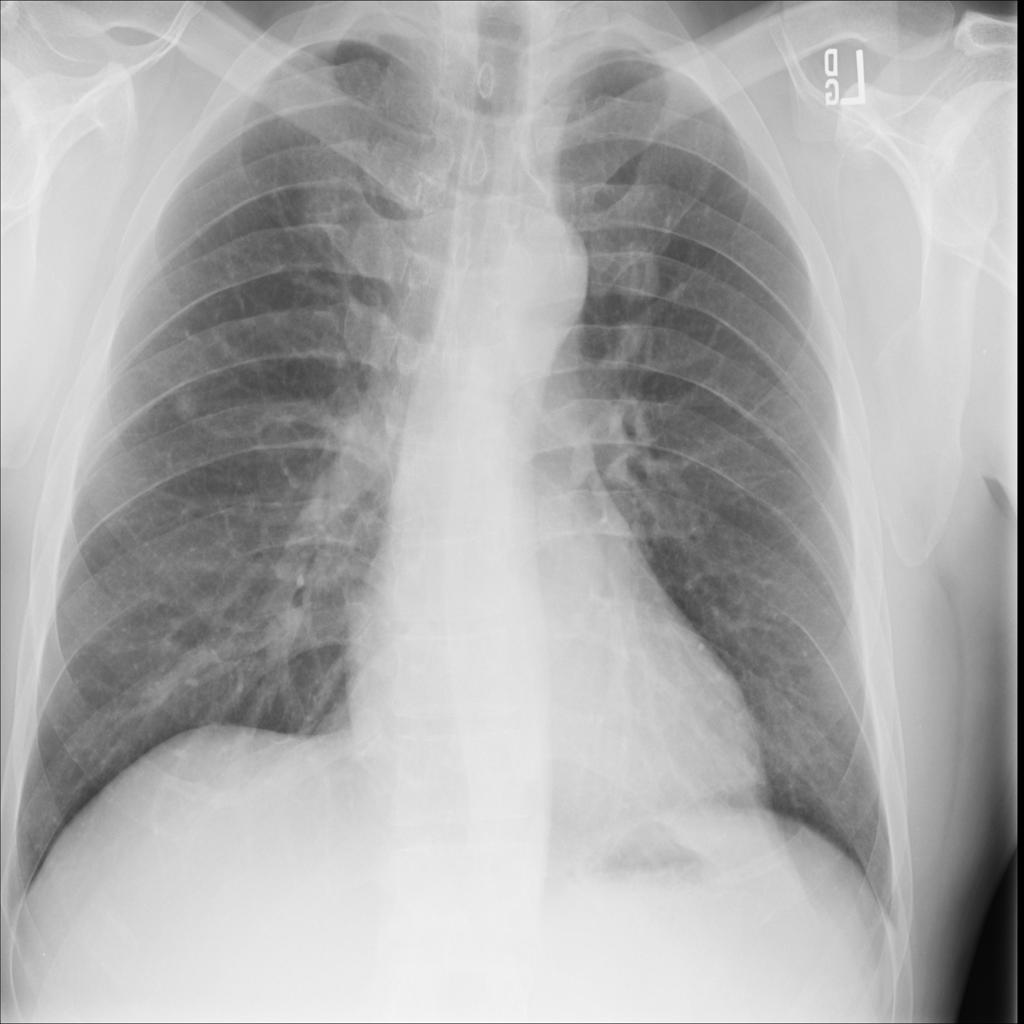nodule: (161, 378, 212, 431)
